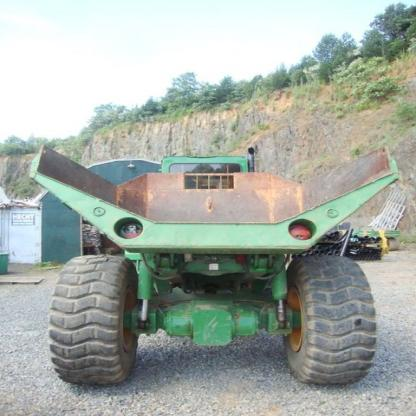dump_truck: (22, 134, 397, 383)
